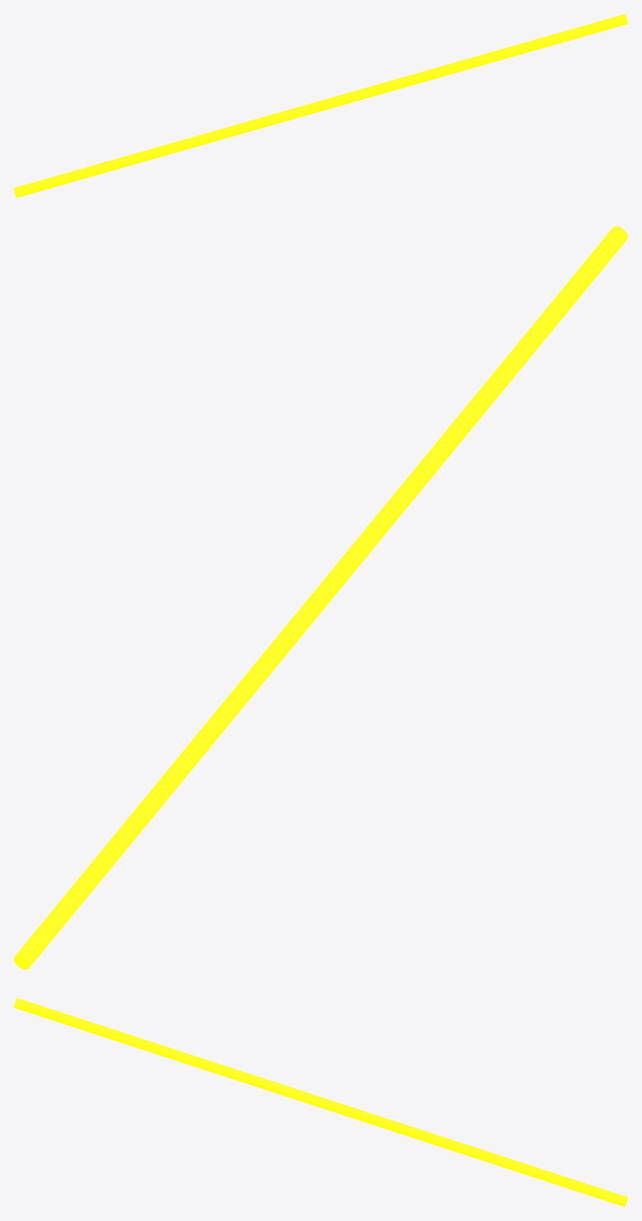
File: Beam.fbx
3 renders of one model, top to bottom at view 1: azimuth 90°, elevation 25°; view 2: azimuth 150°, elevation 25°; view 3: azimuth 270°, elevation 25°, orthographic. The views are drawn at different scales.
Parts seen in each view (by area): view 1: Light_Beam; view 2: Light_Beam; view 3: Light_Beam.
Part boxes in pixels (bbox=[...]): Light_Beam: bbox=[14, 14, 627, 197]; Light_Beam: bbox=[14, 226, 627, 969]; Light_Beam: bbox=[14, 998, 627, 1206].
Size of the model in its own units: 1070 by 70.17 by 376.
